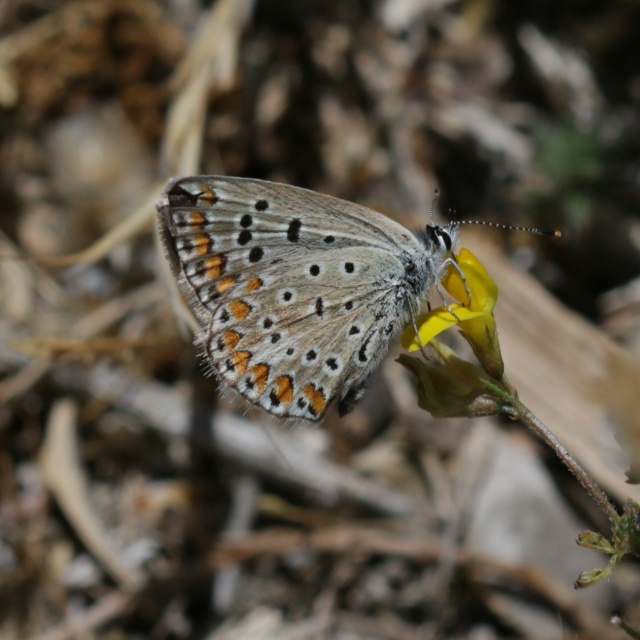Butterfly: (151, 160, 538, 422)
